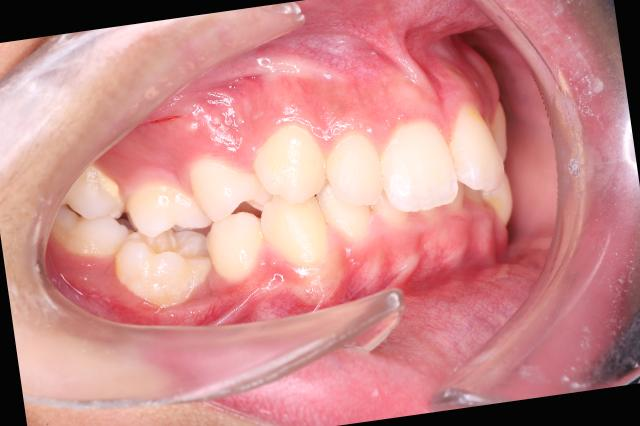canine class II 1/2: (192, 118, 352, 296)
molar class II 1/4: (31, 162, 136, 273)
